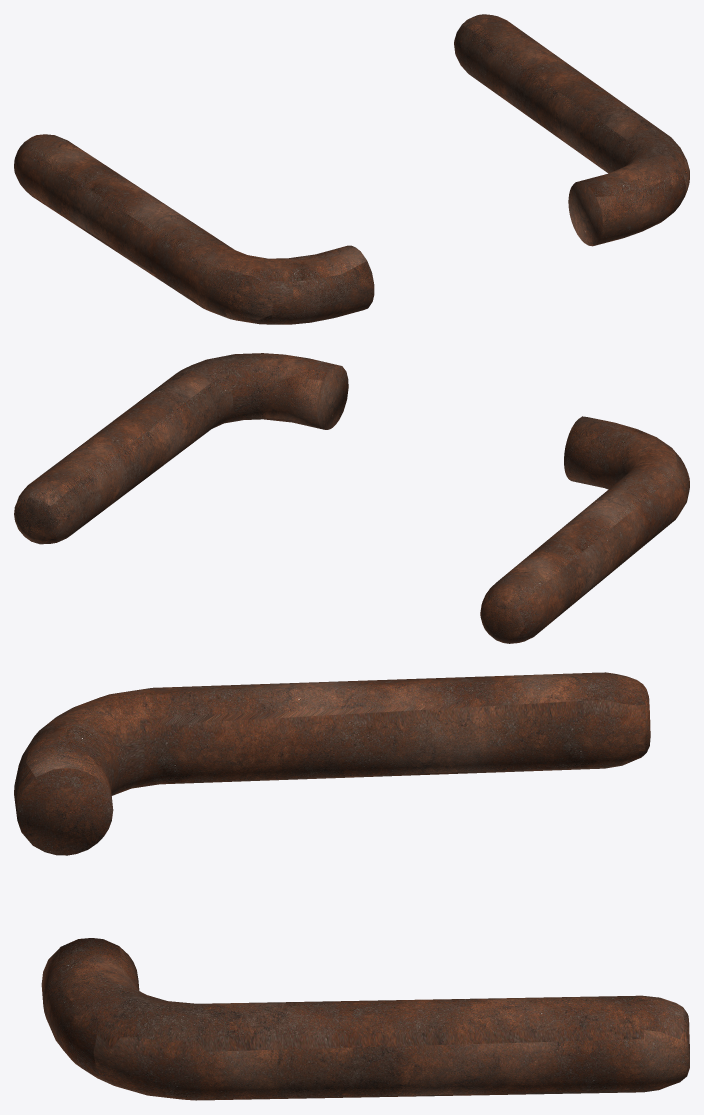
File: doorKnob.obj
3 views of the same model, one above another, from view 1: azimuth 30°, elevation 25°; view 2: azimuth 150°, elevation 25°; view 3: azimuth 270°, elevation 25° (orthographic). The views are drawn at different scales.
Parts seen in each view (by area): view 1: Cylinder.007; view 2: Cylinder.007; view 3: Cylinder.007.
Boxes of the visible parts, bbox=[...] form: Cylinder.007: bbox=[14, 14, 689, 324]; Cylinder.007: bbox=[14, 353, 689, 643]; Cylinder.007: bbox=[14, 672, 689, 1100].
Size of the model in its own units: 0.2806 by 0.0334 by 0.2185.
1 material, 1 textured.
